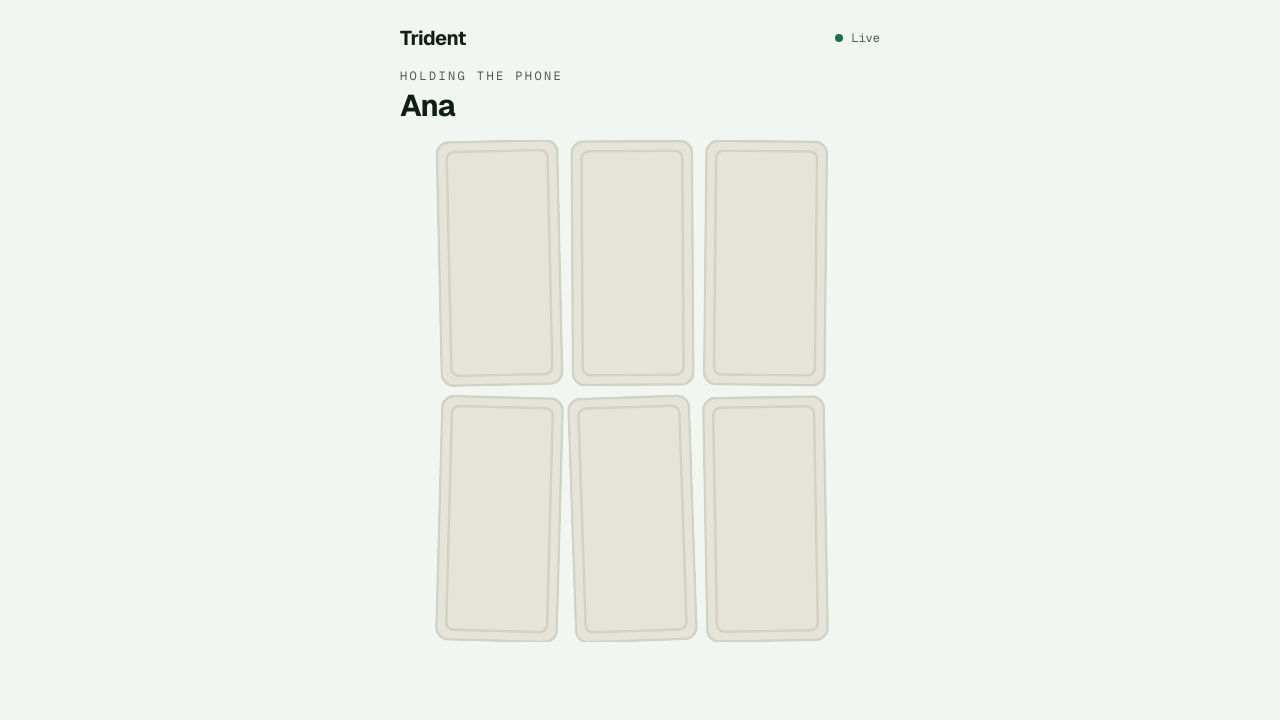
Test case: the phone screen › still shows the drawn face when the same write replaced the pool
Expected: the element showing "Holding the phone Ana" is shown, x1=400 y1=68 x2=563 y2=125
Click the 3rd button at (766, 263), box x1=704 y1=140 x2=827 y2=386
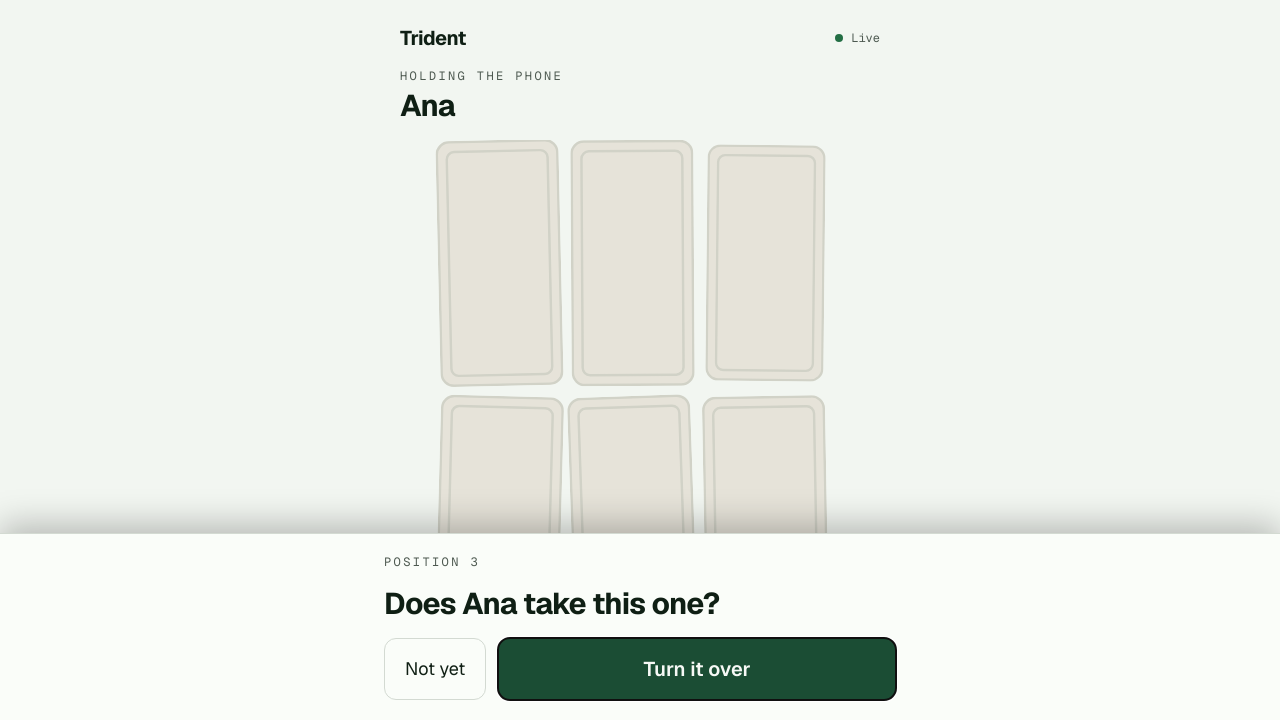
Click the button "Turn it over" at (697, 669), box x1=498 y1=638 x2=896 y2=700
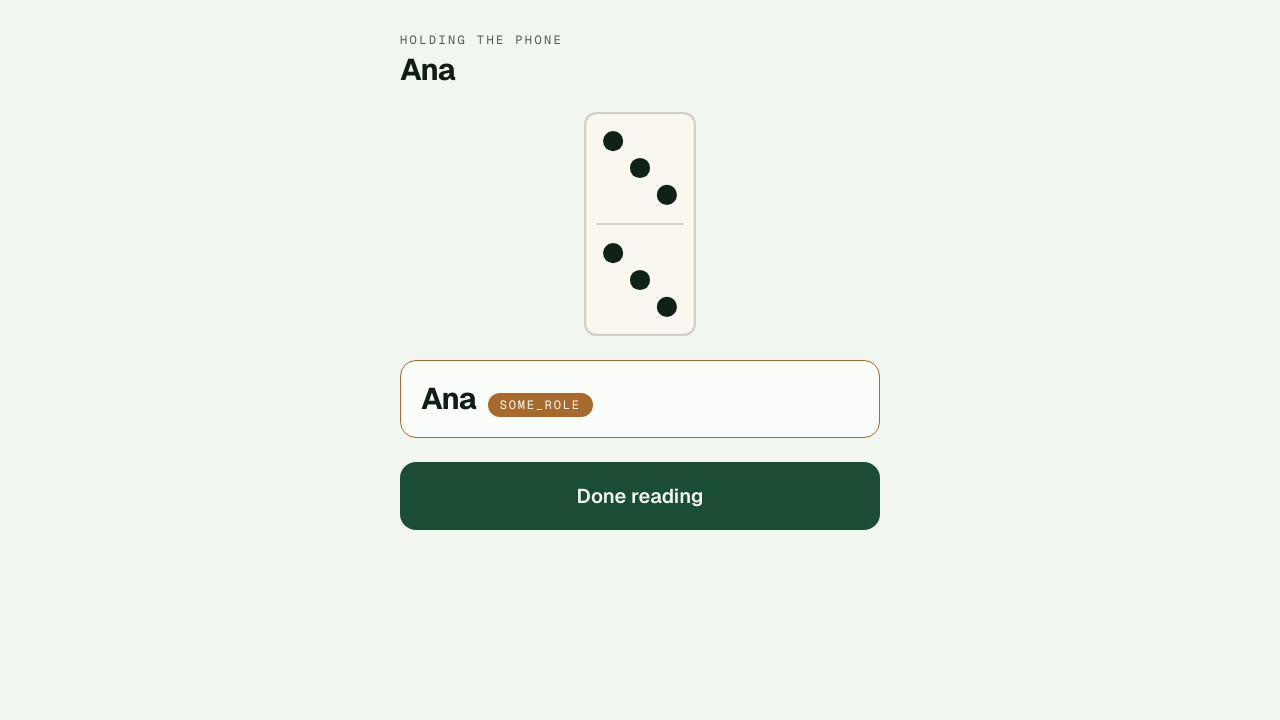
Expected: the element showing "Holding the phone Ana Ana some_role Done reading" is shown, x1=384 y1=0 x2=896 y2=562
Expected: the element showing "Ana some_role" is shown, x1=400 y1=360 x2=880 y2=438
